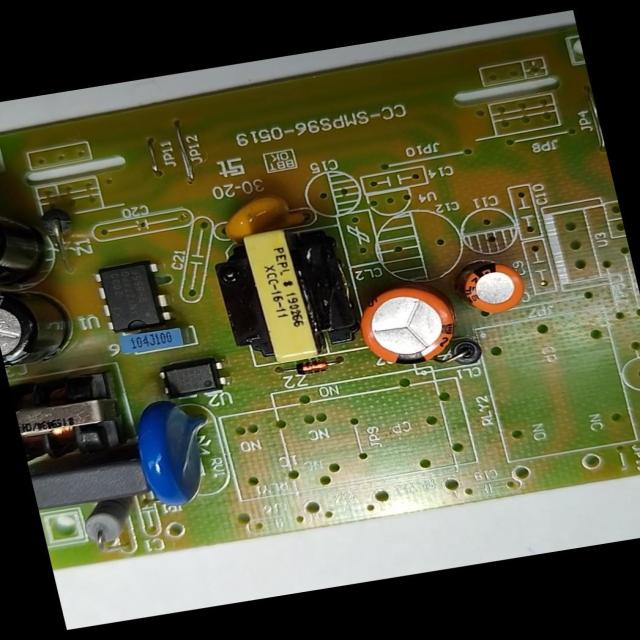Cap1: (351, 282, 460, 370)
Cap2: (457, 256, 529, 318)
Cap3: (0, 278, 83, 369)
Cap4: (0, 188, 59, 294)
MOSFET: (93, 257, 174, 335)
Mov: (128, 394, 230, 511)
Resistor: (76, 495, 144, 548)
Transformer: (209, 219, 364, 368), (8, 364, 136, 470)
